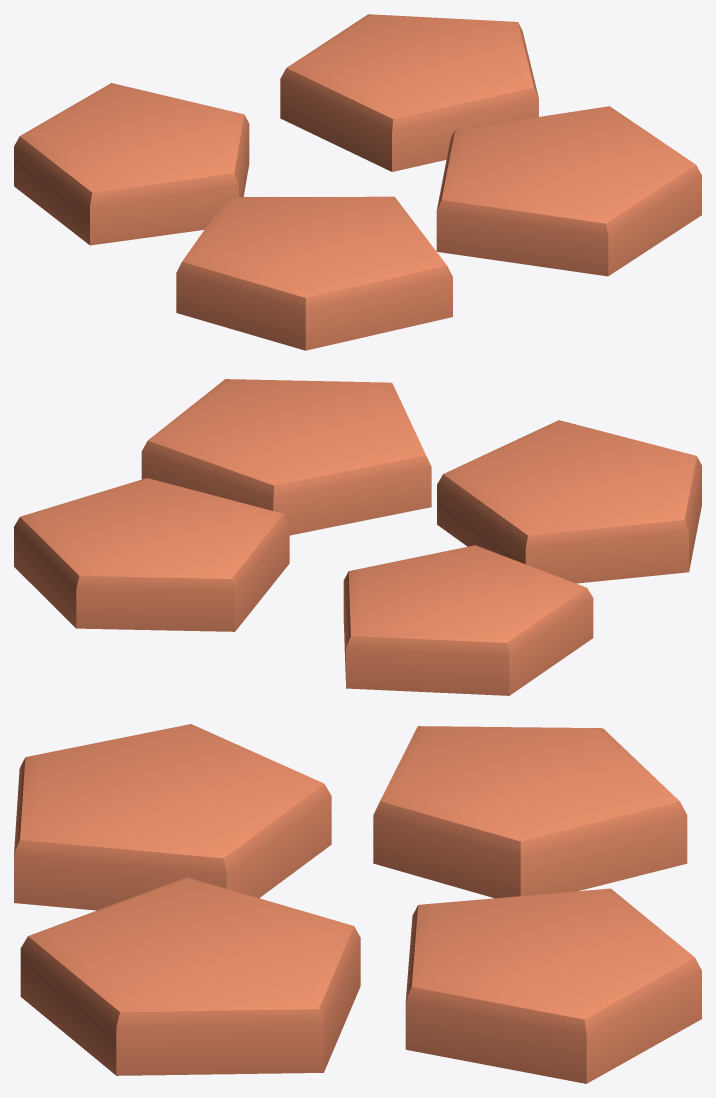
The model's file is rock_tiles.glb.
The picture shows the model from 3 angles, top to bottom: view 1: azimuth 30°, elevation 25°; view 2: azimuth 150°, elevation 25°; view 3: azimuth 270°, elevation 25°; orthographic projection. The views are drawn at different scales.
Parts seen in each view (by area): view 1: rock_tiles; view 2: rock_tiles; view 3: rock_tiles.
Part boxes in pixels (<box>): rock_tiles: <box>14,14,701,350</box>; rock_tiles: <box>14,379,701,695</box>; rock_tiles: <box>14,724,701,1083</box>.
Size of the model in its own units: 0.5345 by 0.055 by 0.5151.
